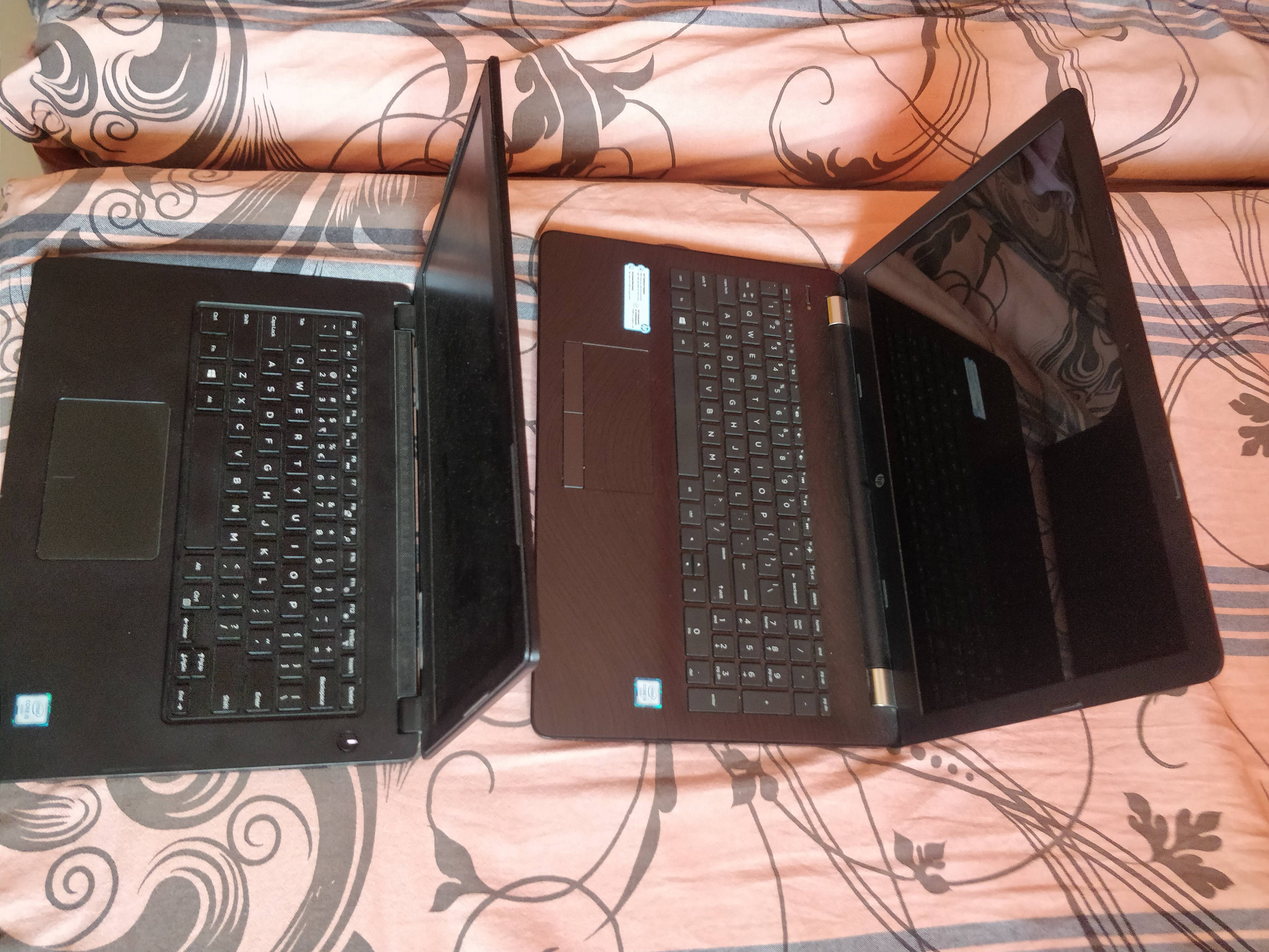Electronics: (515, 79, 1254, 774), (0, 50, 551, 801)
